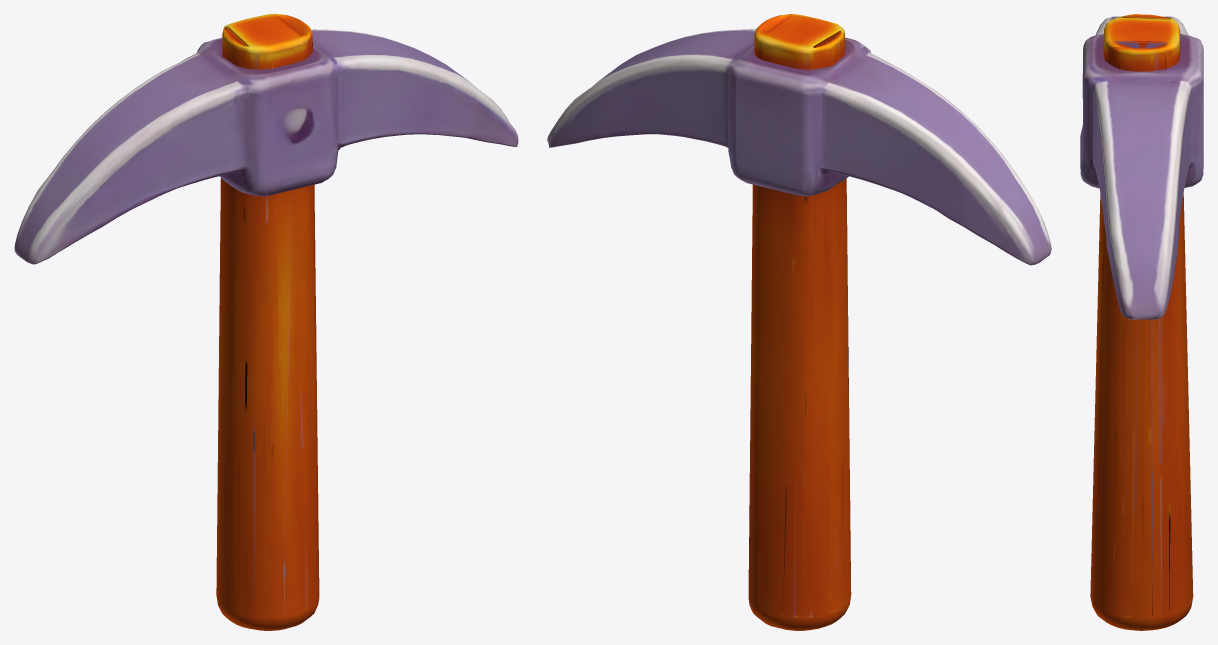
Rendered from Axe.glb.
The picture shows the model from 3 angles, left to right: view 1: azimuth 30°, elevation 25°; view 2: azimuth 150°, elevation 25°; view 3: azimuth 270°, elevation 25°; orthographic projection.
Visible parts, largest first — view 1: geometry_0; view 2: geometry_0; view 3: geometry_0.
Part boxes in pixels (left/top/right/bottom): geometry_0: left=14, top=14, right=518, bottom=630; geometry_0: left=547, top=14, right=1051, bottom=630; geometry_0: left=1080, top=14, right=1203, bottom=630.
Bounding box in the file's own units: 0.8271 × 0.9502 × 0.1802.
1 material, 1 textured.
